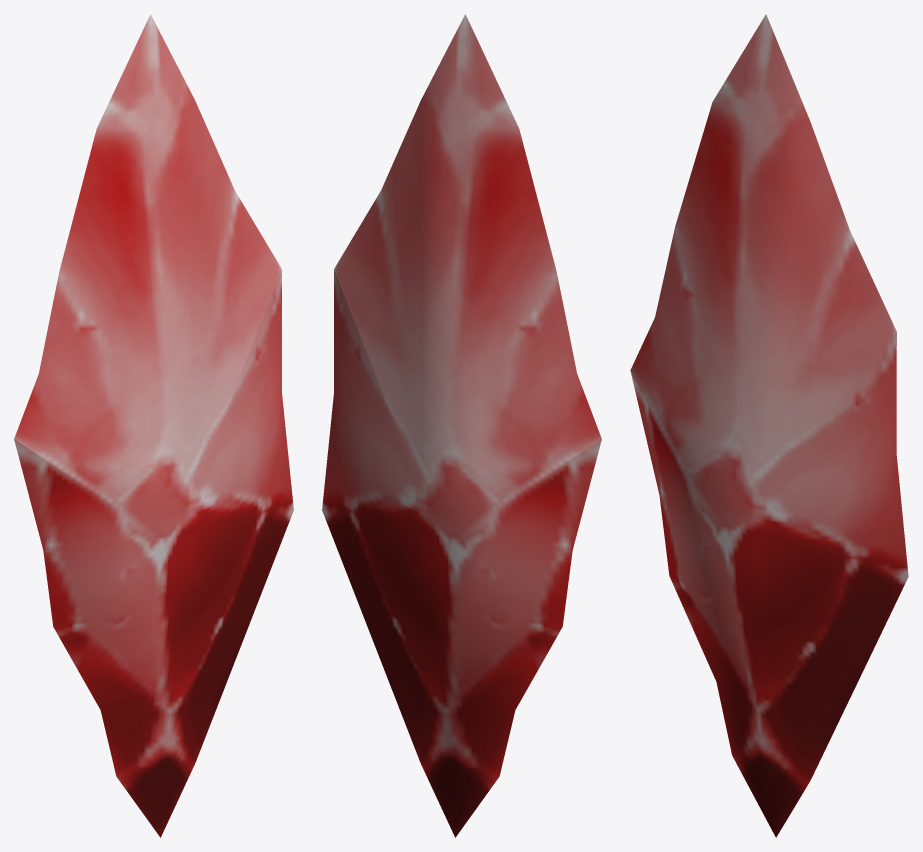
Rendered from Red_C.fbx.
The picture shows the model from 3 angles, left to right: view 1: azimuth 30°, elevation 25°; view 2: azimuth 150°, elevation 25°; view 3: azimuth 330°, elevation 25°; orthographic projection.
Visible parts, largest first — view 1: Red_C; view 2: Red_C; view 3: Red_C.
Boxes of the visible parts, x1,y1,x2,y2 form: Red_C: [14, 14, 293, 837]; Red_C: [322, 14, 601, 837]; Red_C: [630, 14, 908, 837].
Size of the model in its own units: 6.74 by 19.03 by 2.18.
1 material, 1 textured.
